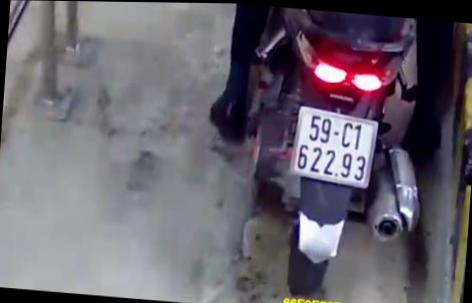LP: (287, 101, 380, 189)
